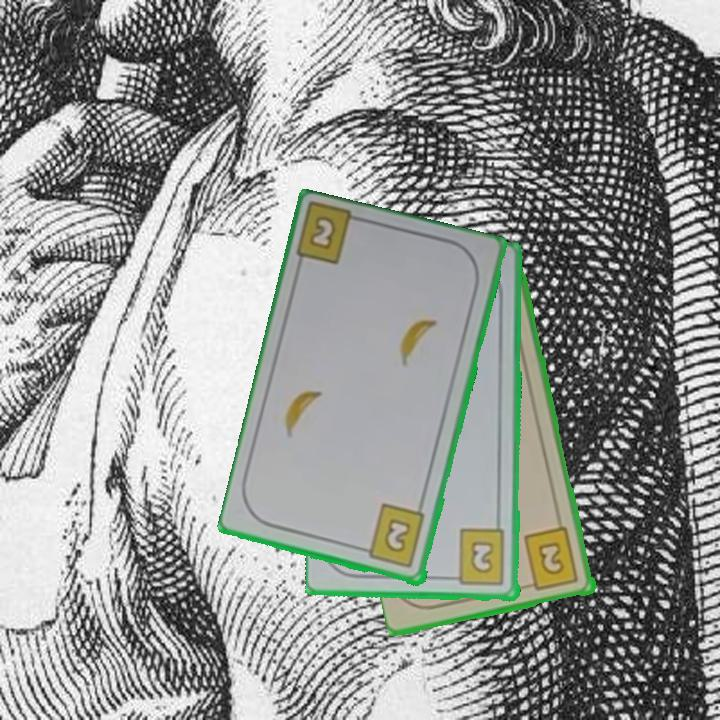2b: (357, 501, 428, 571), (520, 524, 582, 594), (446, 527, 508, 588), (306, 212, 339, 253)
